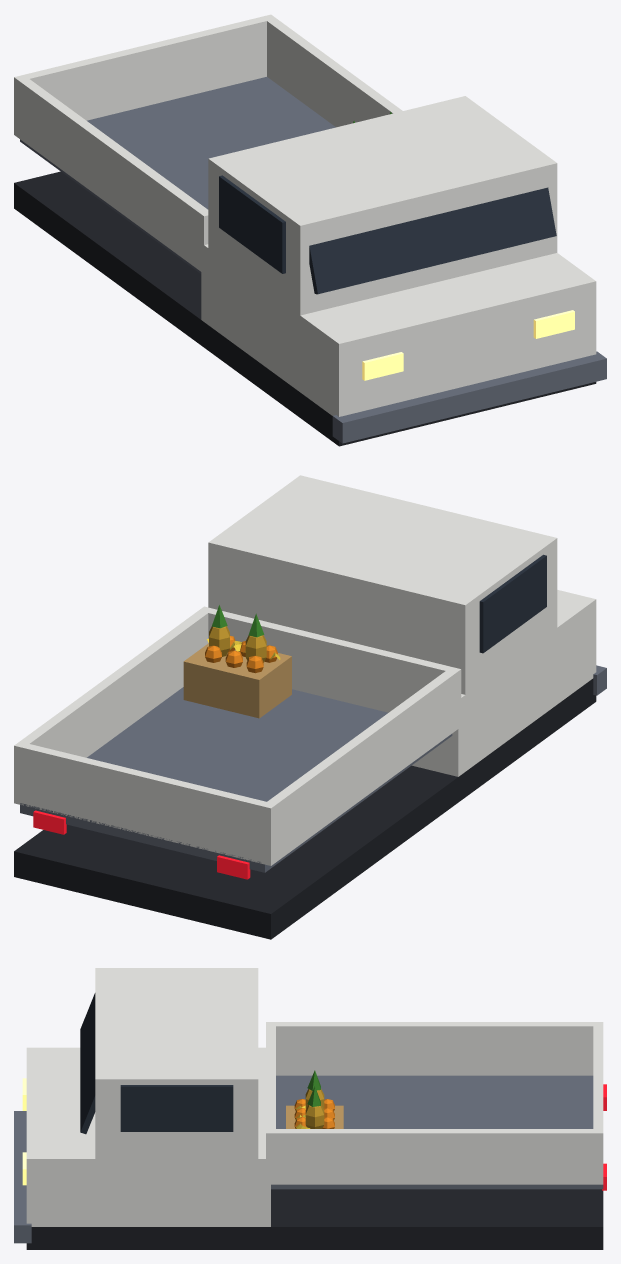
File: fruit_truck.glb
3 views of the same model, one above another, from view 1: azimuth 30°, elevation 25°; view 2: azimuth 150°, elevation 25°; view 3: azimuth 270°, elevation 25° (orthographic). The views are drawn at different scales.
Parts seen in each view (by area): view 1: paint_fruit_paint, body_car_black, body_truck_glass, bed_car_grey, body_car_grey, lights_lamp; view 2: paint_fruit_paint, body_car_black, bed_car_grey, crate_bananas_crate_wood, body_truck_glass, lights_tail, crate_oranges_orange_fruit, crate_pineapples_pineapple; view 3: paint_fruit_paint, body_car_black, bed_car_grey, body_truck_glass, body_car_grey, crate_oranges_orange_fruit, crate_pineapples_pineapple, crate_bananas_crate_wood.
Boxes of the visible parts, bbox=[...] form: paint_fruit_paint: bbox=[14, 14, 596, 416]; body_car_black: bbox=[14, 171, 596, 446]; body_truck_glass: bbox=[219, 175, 556, 294]; bed_car_grey: bbox=[20, 77, 335, 273]; body_car_grey: bbox=[332, 351, 606, 443]; lights_lamp: bbox=[362, 310, 574, 380]; paint_fruit_paint: bbox=[14, 475, 596, 865]; body_car_black: bbox=[14, 678, 596, 939]; bed_car_grey: bbox=[20, 687, 452, 872]; crate_bananas_crate_wood: bbox=[183, 643, 291, 718]; body_truck_glass: bbox=[479, 554, 546, 653]; lights_tail: bbox=[33, 810, 250, 879]; crate_oranges_orange_fruit: bbox=[205, 635, 277, 673]; crate_pineapples_pineapple: bbox=[209, 626, 266, 662]; paint_fruit_paint: bbox=[26, 968, 603, 1226]; body_car_black: bbox=[26, 1189, 603, 1249]; bed_car_grey: bbox=[271, 1075, 603, 1189]; body_truck_glass: bbox=[80, 993, 233, 1134]; body_car_grey: bbox=[14, 1111, 31, 1243]; crate_oranges_orange_fruit: bbox=[294, 1099, 334, 1128]; crate_pineapples_pineapple: bbox=[305, 1089, 324, 1128]; crate_bananas_crate_wood: bbox=[286, 1105, 343, 1128].
Bounding box in the file's own units: 2.16 × 1.5 × 4.73.
